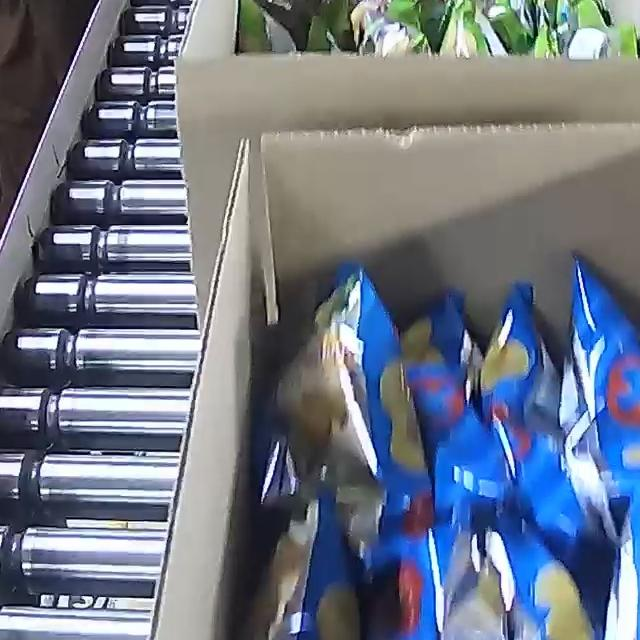paprika: (244, 253, 640, 640)
yogurt: (257, 0, 640, 70)
